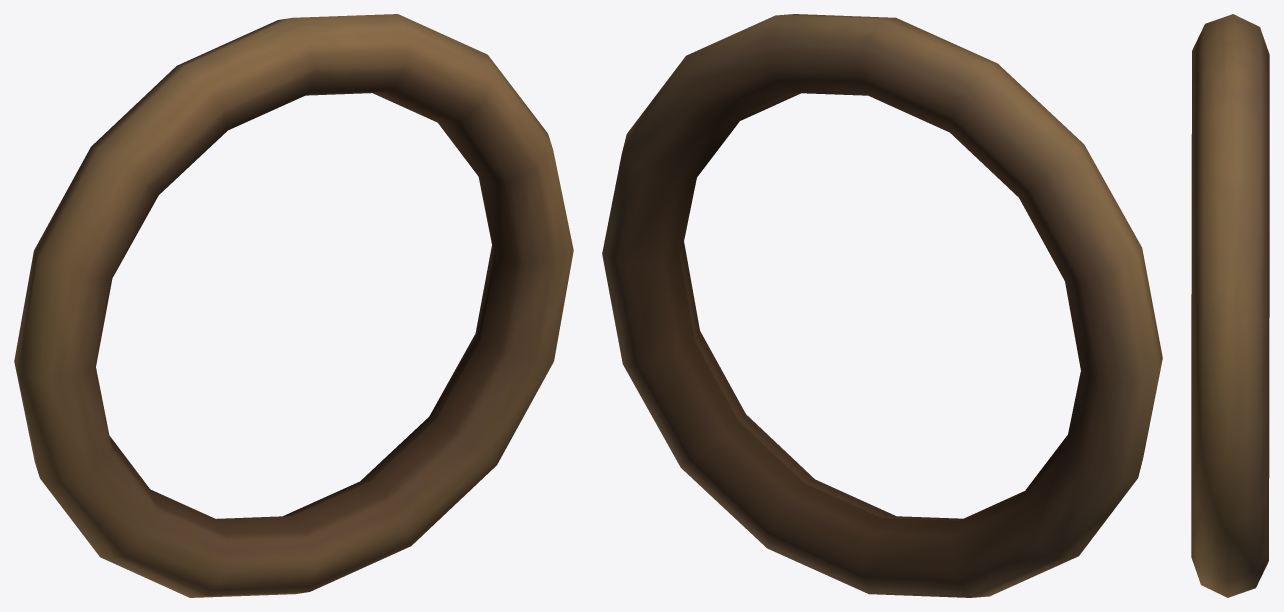
Rendered from HookRing.fbx.
3 renders of one model, left to right at view 1: azimuth 30°, elevation 25°; view 2: azimuth 150°, elevation 25°; view 3: azimuth 270°, elevation 25°, orthographic. The views are drawn at different scales.
Visible parts, largest first — view 1: ClothHolder2; view 2: ClothHolder2; view 3: ClothHolder2.
Part boxes in pixels (x1=…): ClothHolder2: x1=14, y1=14, x2=573, y2=597; ClothHolder2: x1=602, y1=14, x2=1162, y2=597; ClothHolder2: x1=1191, y1=14, x2=1269, y2=597.
Size of the model in its own units: 2.93 by 2.91 by 0.3921.
